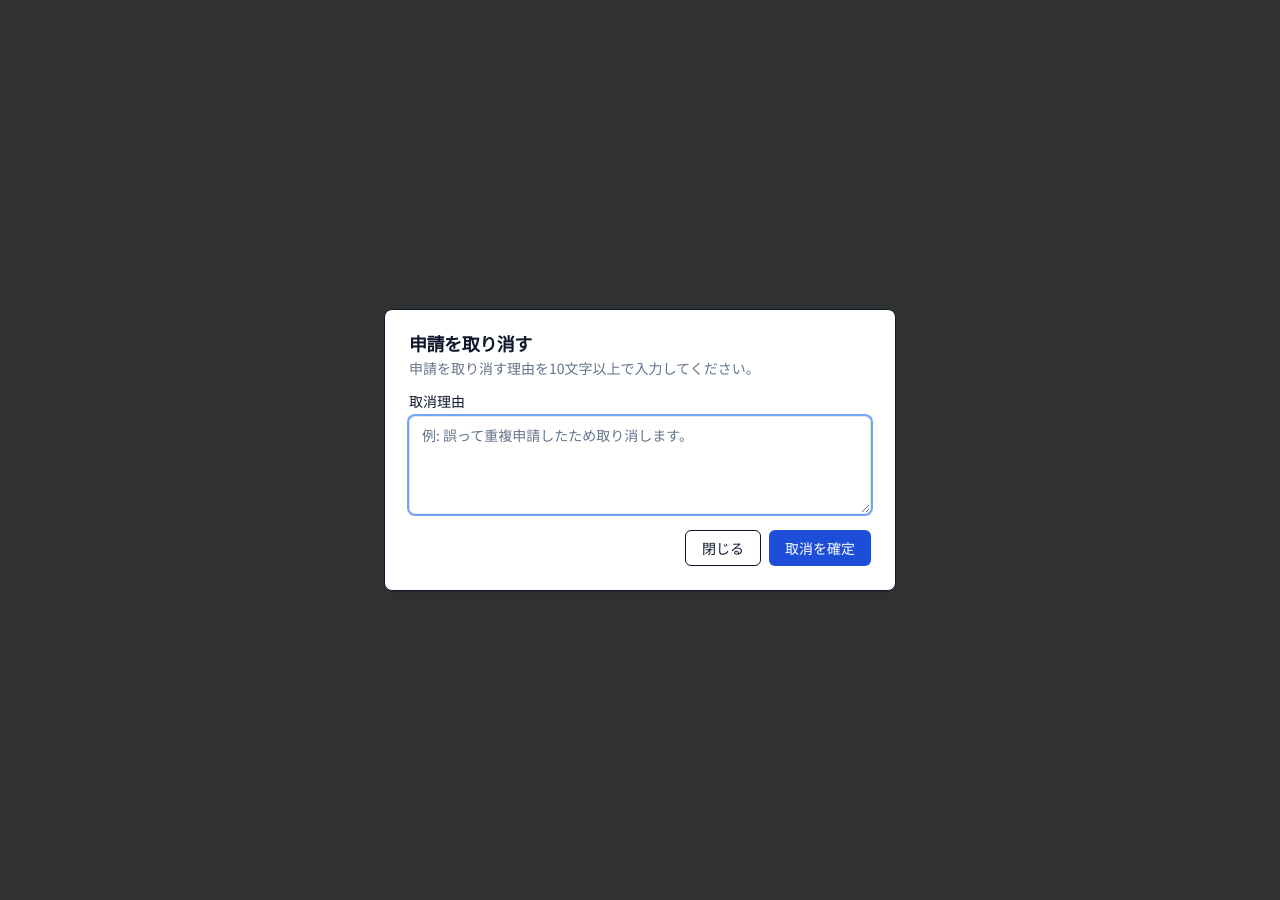
Test: CancellationDialog › shows validation error when cancellation reason is missing
This screenshot has width=1280, height=900.
Click the button "取消を確定" at [820, 548], box x1=769 y1=530 x2=871 y2=566
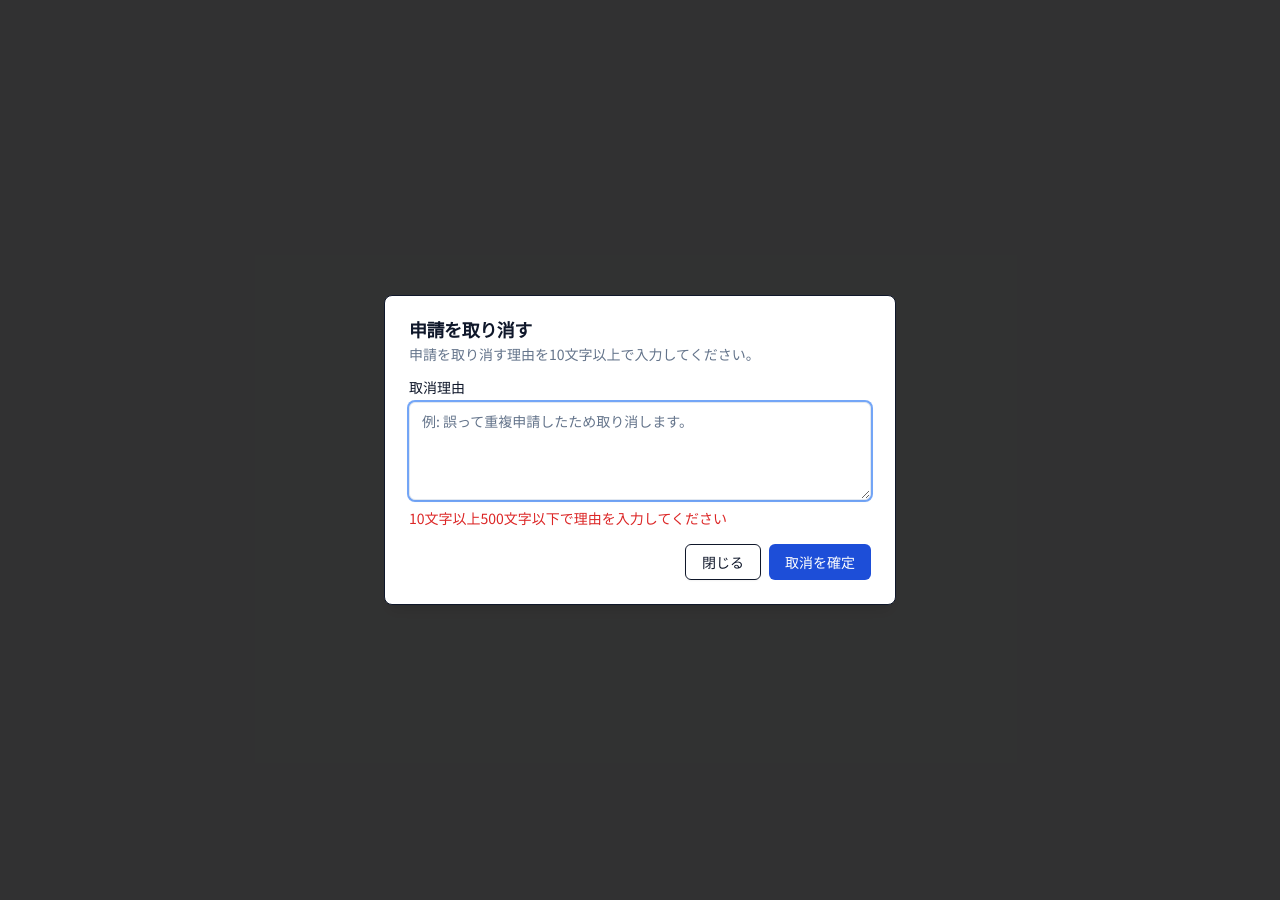
Expected: the text "10文字以上500文字以下で理由を入力してください" is shown, x1=409 y1=508 x2=727 y2=528
